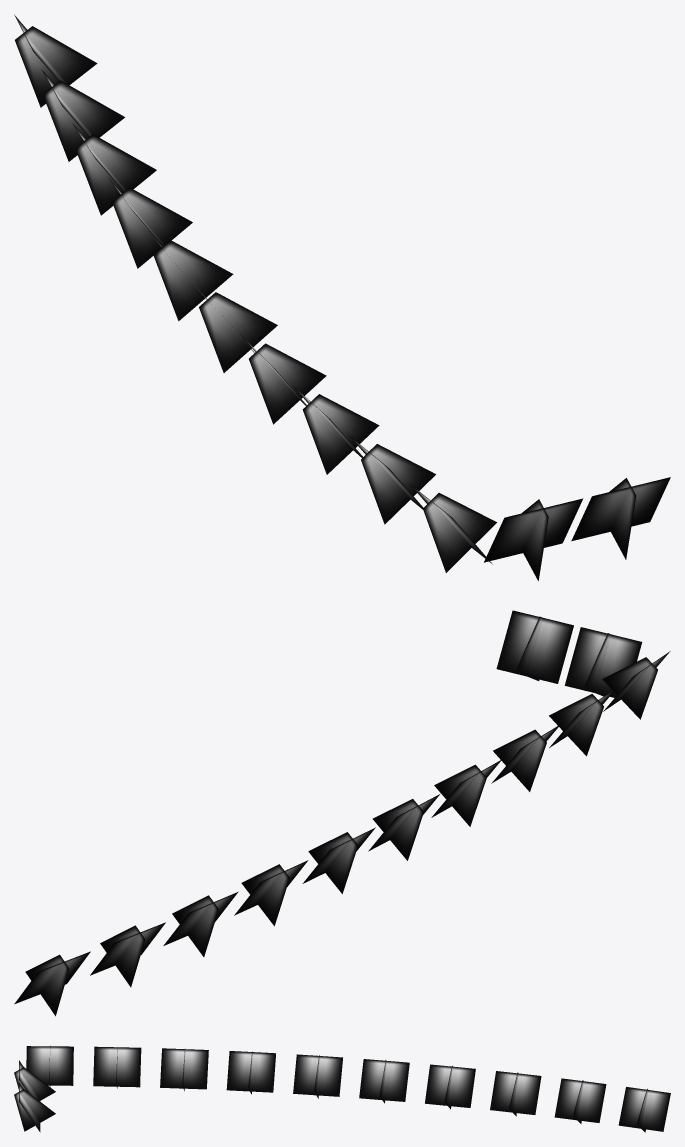
File: menunew3_halorays.fbx
3 renders of one model, top to bottom at view 1: azimuth 30°, elevation 25°; view 2: azimuth 150°, elevation 25°; view 3: azimuth 270°, elevation 25°, orthographic. The views are drawn at different scales.
Parts seen in each view (by area): view 1: menuNew3_haloRays__6_-_Defaultasd_LOD1; view 2: menuNew3_haloRays__6_-_Defaultasd_LOD1; view 3: menuNew3_haloRays__6_-_Defaultasd_LOD1.
Boxes of the visible parts, x1,y1,x2,y2 form: menuNew3_haloRays__6_-_Defaultasd_LOD1: [14, 14, 670, 581]; menuNew3_haloRays__6_-_Defaultasd_LOD1: [14, 610, 670, 1016]; menuNew3_haloRays__6_-_Defaultasd_LOD1: [14, 1045, 670, 1132].
Size of the model in its own units: 18.52 by 83.9 by 6.47.
